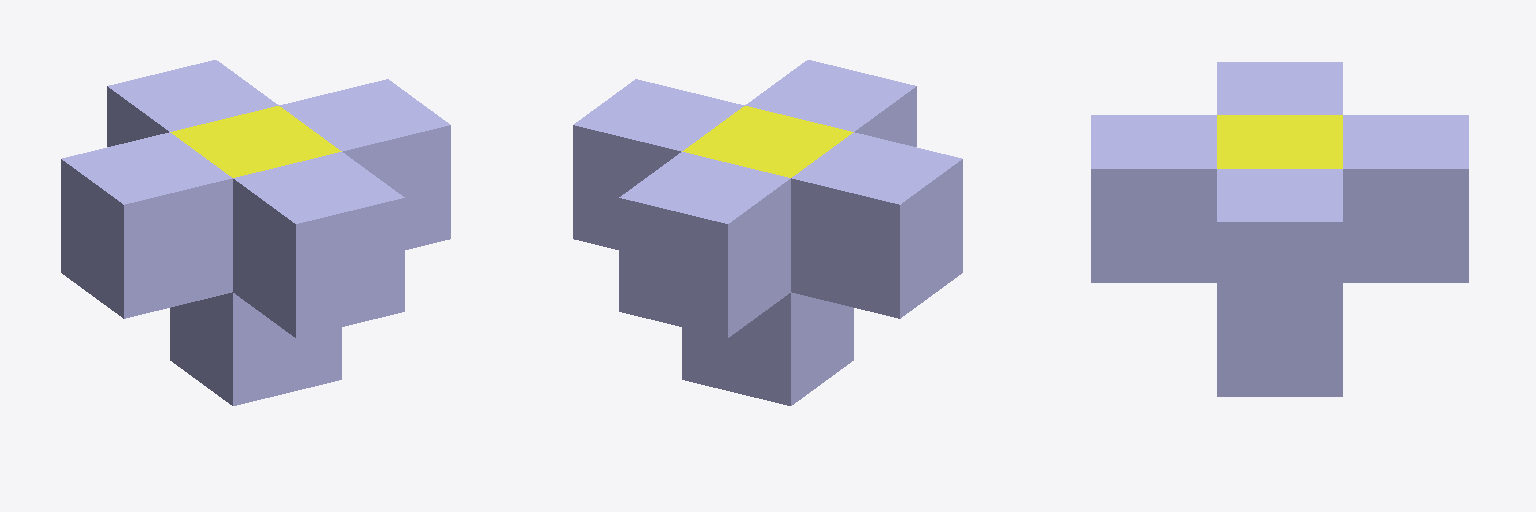
3 renders of one model, left to right at view 1: azimuth 30°, elevation 25°; view 2: azimuth 150°, elevation 25°; view 3: azimuth 270°, elevation 25°, orthographic.
Parts seen in each view (by area): view 1: object 1; view 2: object 1; view 3: object 1.
Boxes of the visible parts, box(x1,y1,x2,y2) form: object 1: box(61, 60, 450, 405); object 1: box(573, 60, 962, 405); object 1: box(1091, 62, 1468, 396).
Bounding box in the file's own units: 0.3 × 0.2 × 0.3.
1 materials, 1 textured.